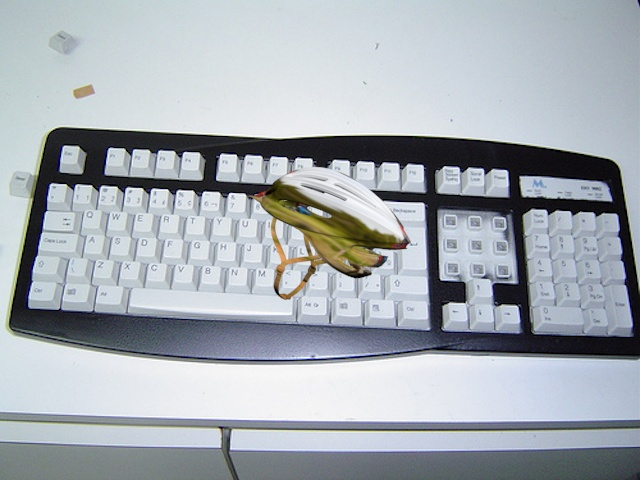bike_helmet: (240, 161, 417, 305)
